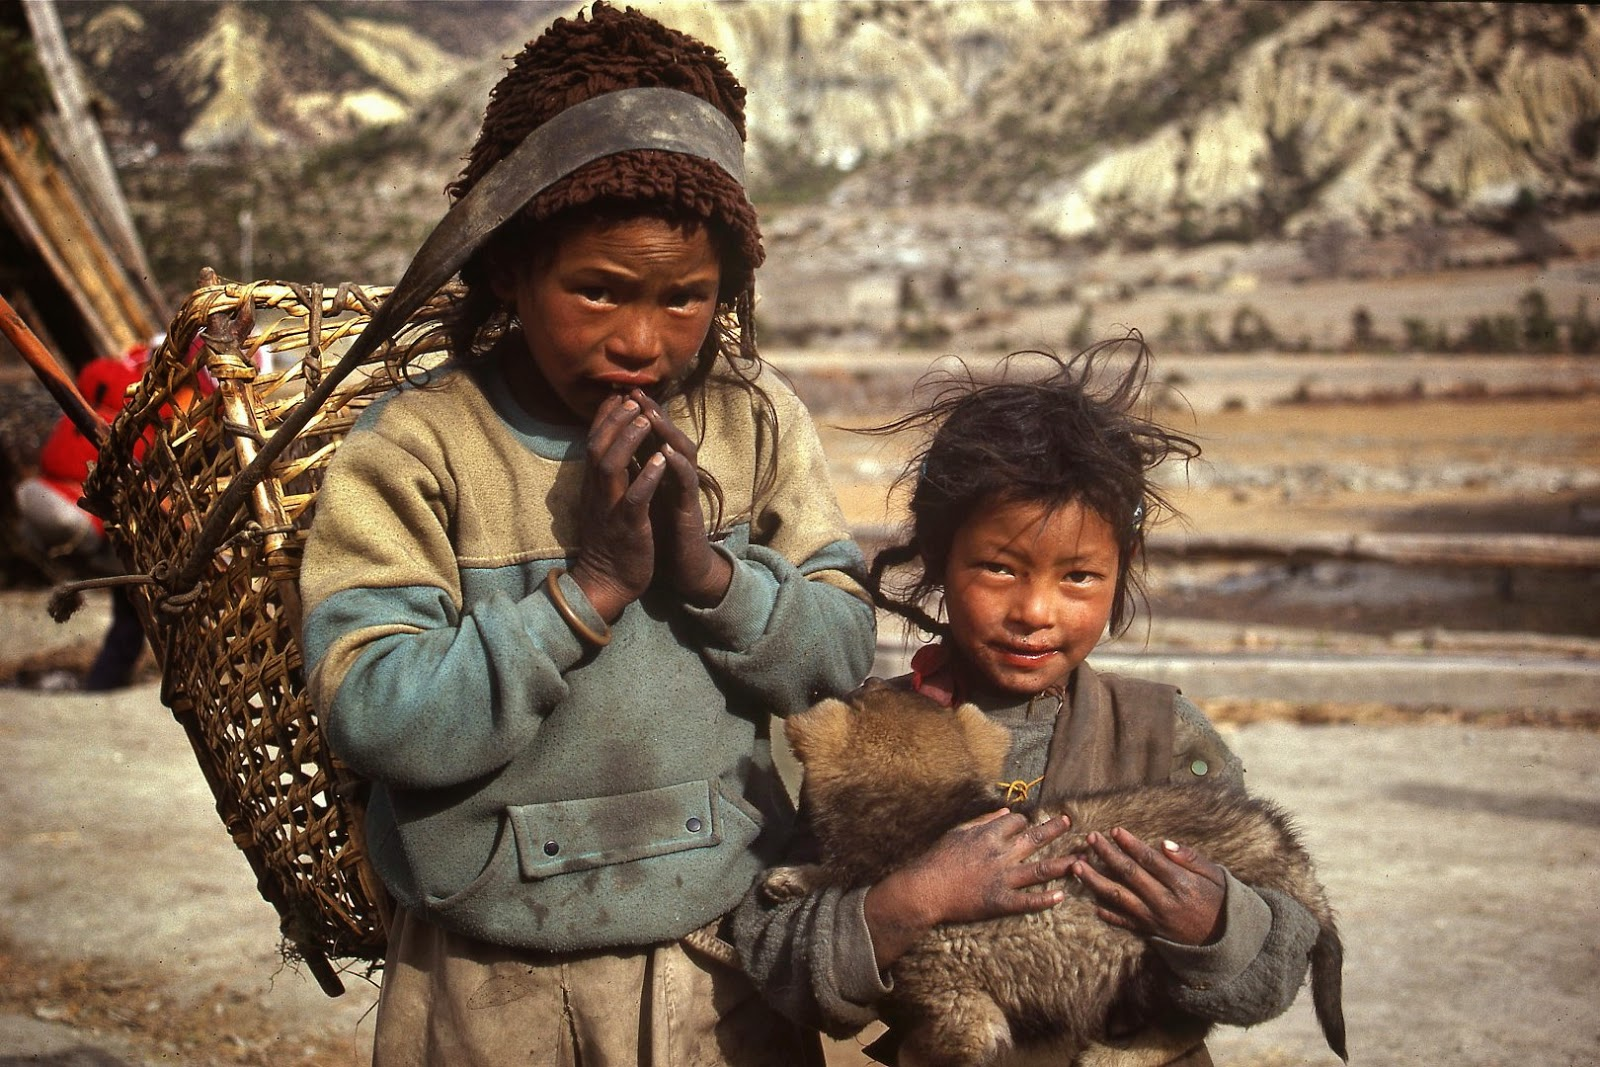human: (287, 5, 884, 1067), (694, 349, 1314, 1067)
